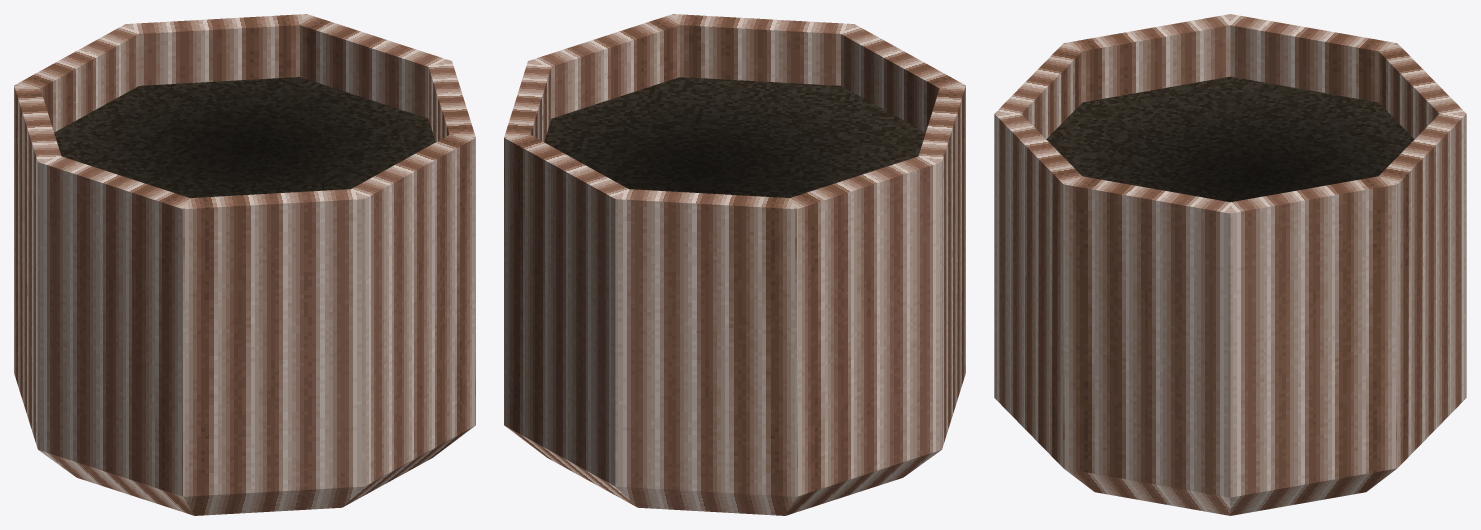
The model's file is pot2.glb.
3 views of the same model, side by side, from view 1: azimuth 30°, elevation 25°; view 2: azimuth 150°, elevation 25°; view 3: azimuth 270°, elevation 25° (orthographic).
Parts seen in each view (by area): view 1: pot2; view 2: pot2; view 3: pot2.
Part boxes in pixels (left/top/right/bottom): pot2: left=14, top=14, right=475, bottom=515; pot2: left=504, top=14, right=965, bottom=515; pot2: left=994, top=14, right=1466, bottom=515.
Size of the model in its own units: 0.4014 by 0.301 by 0.4014.
1 material, 1 textured.
